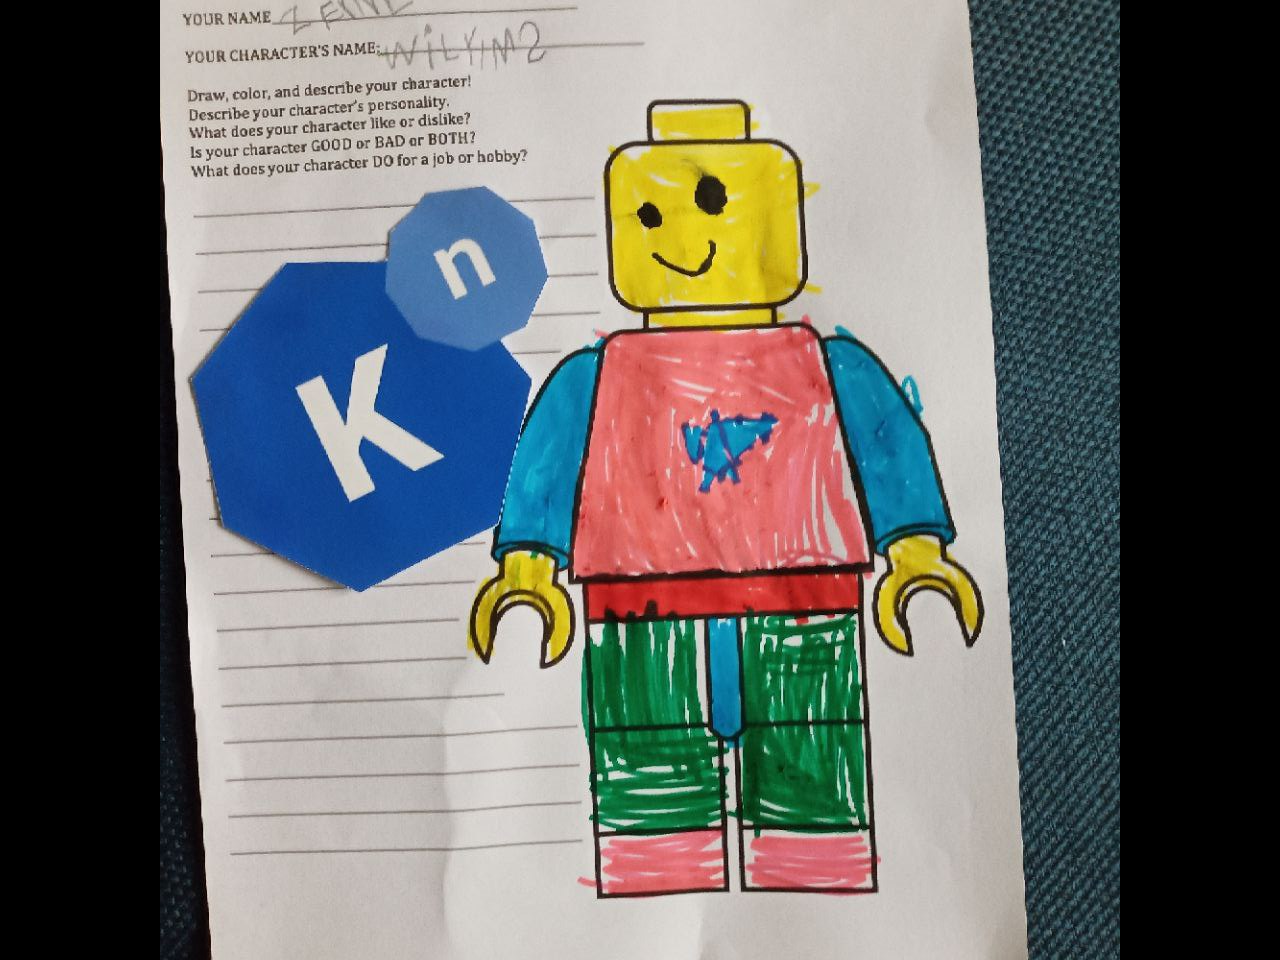knative: (188, 184, 550, 594)
